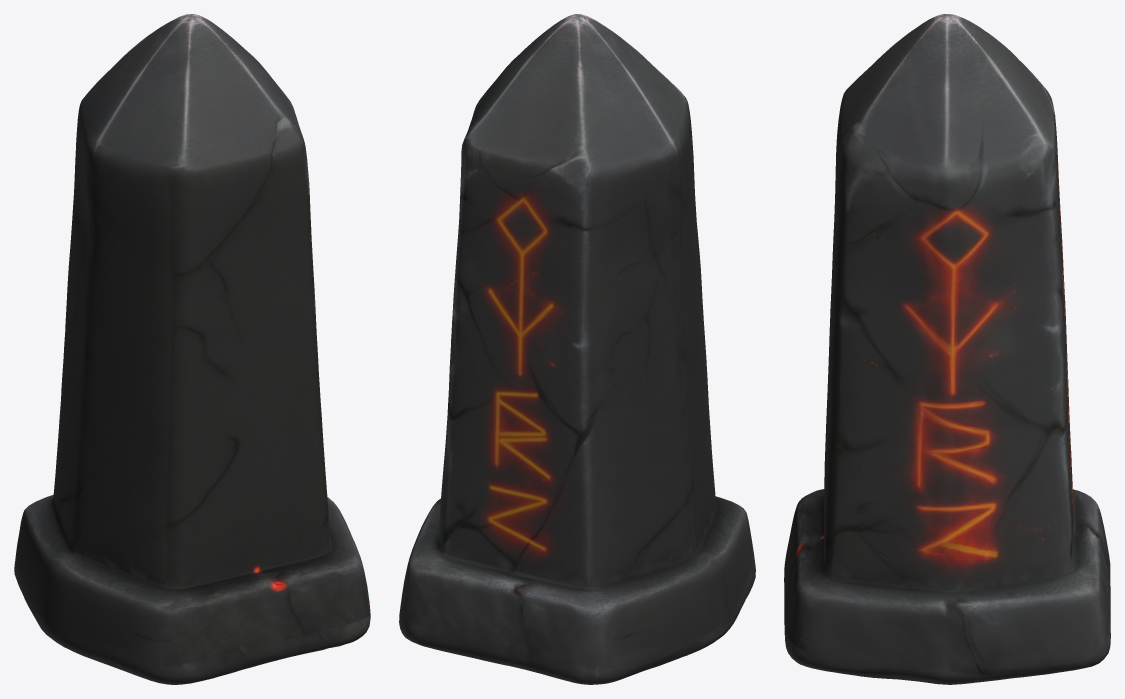
The model's file is rune_pillar.glb.
The picture shows the model from 3 angles, left to right: view 1: azimuth 30°, elevation 25°; view 2: azimuth 150°, elevation 25°; view 3: azimuth 270°, elevation 25°; orthographic projection.
Bounding box in the file's own units: 1.03 × 2 × 0.9824.
Materials: 1 (1 with a texture image).
